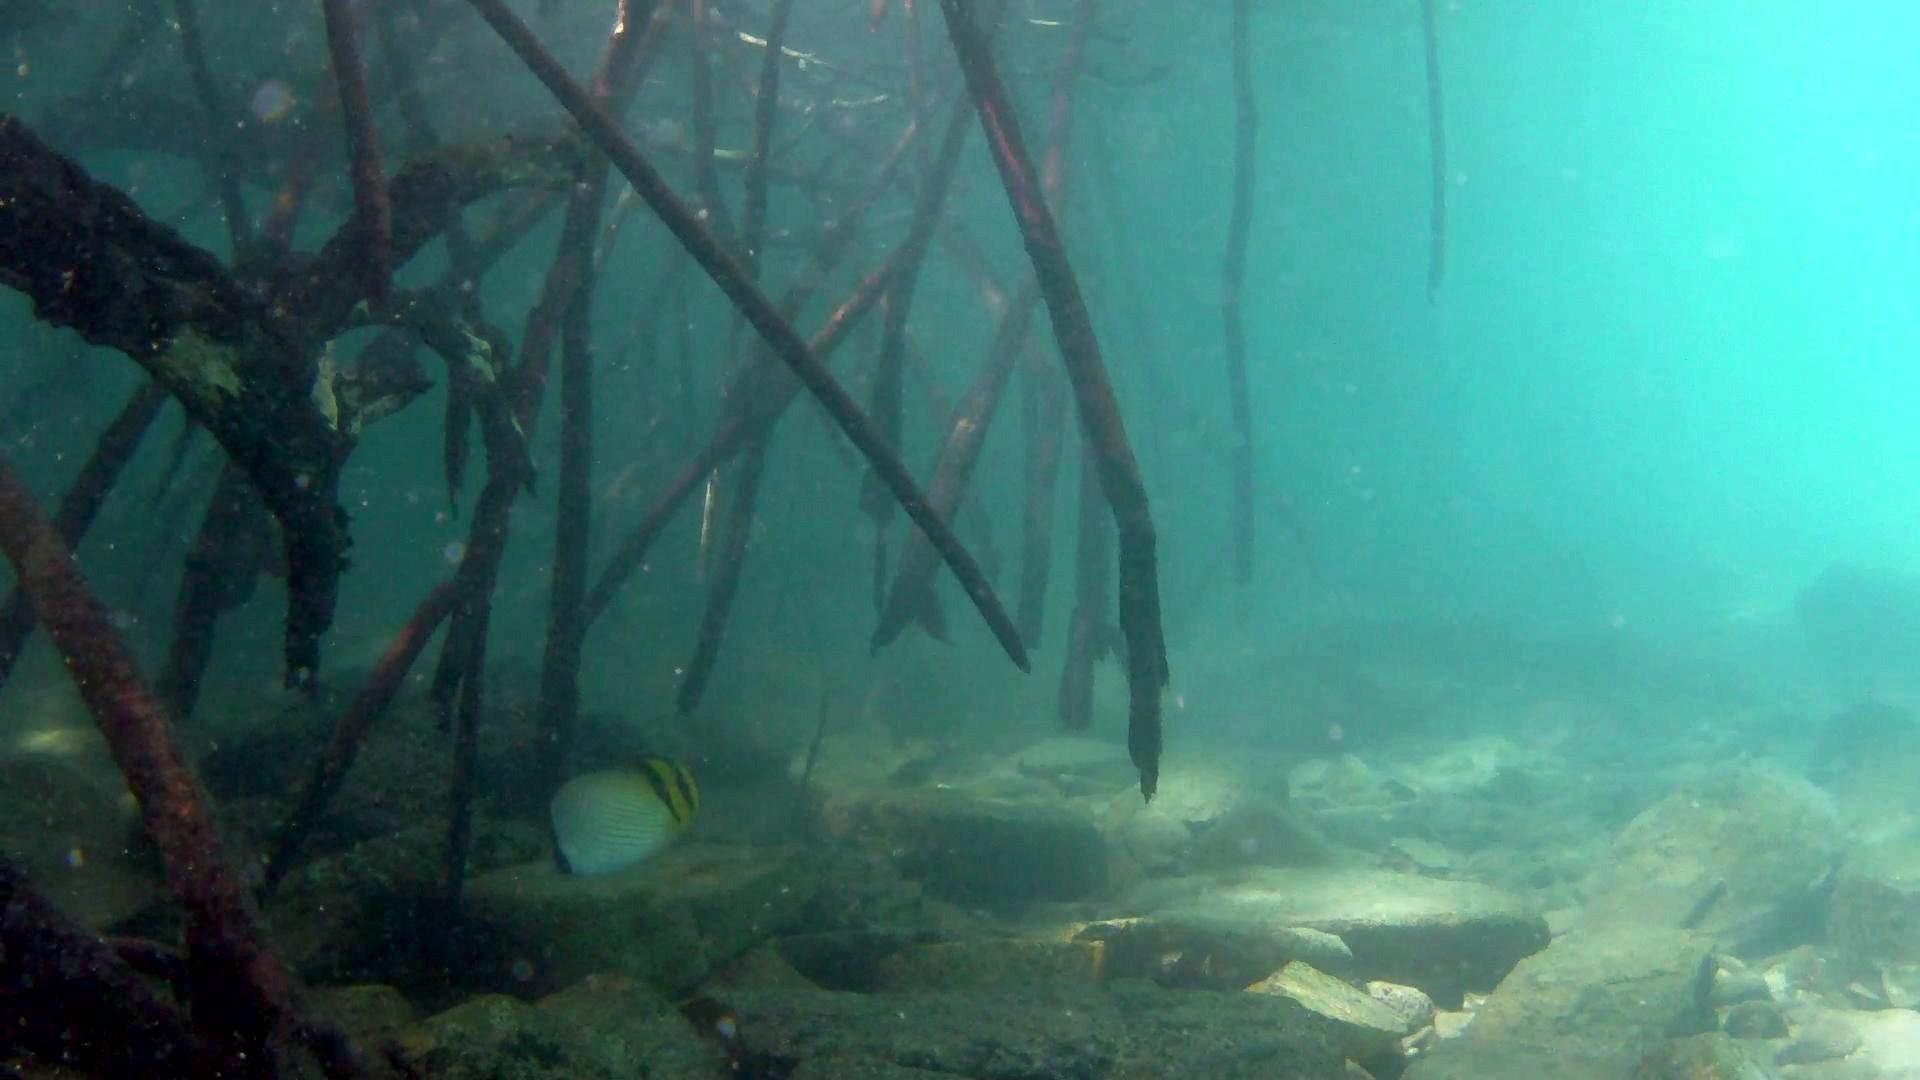chaetodon vagabundus: (534, 750, 703, 882)
